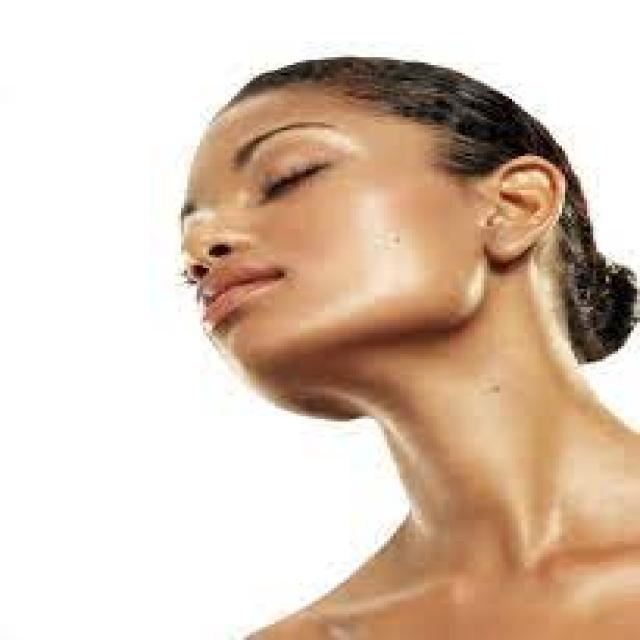Oily-Skin: (313, 185, 443, 308), (288, 125, 381, 156)
